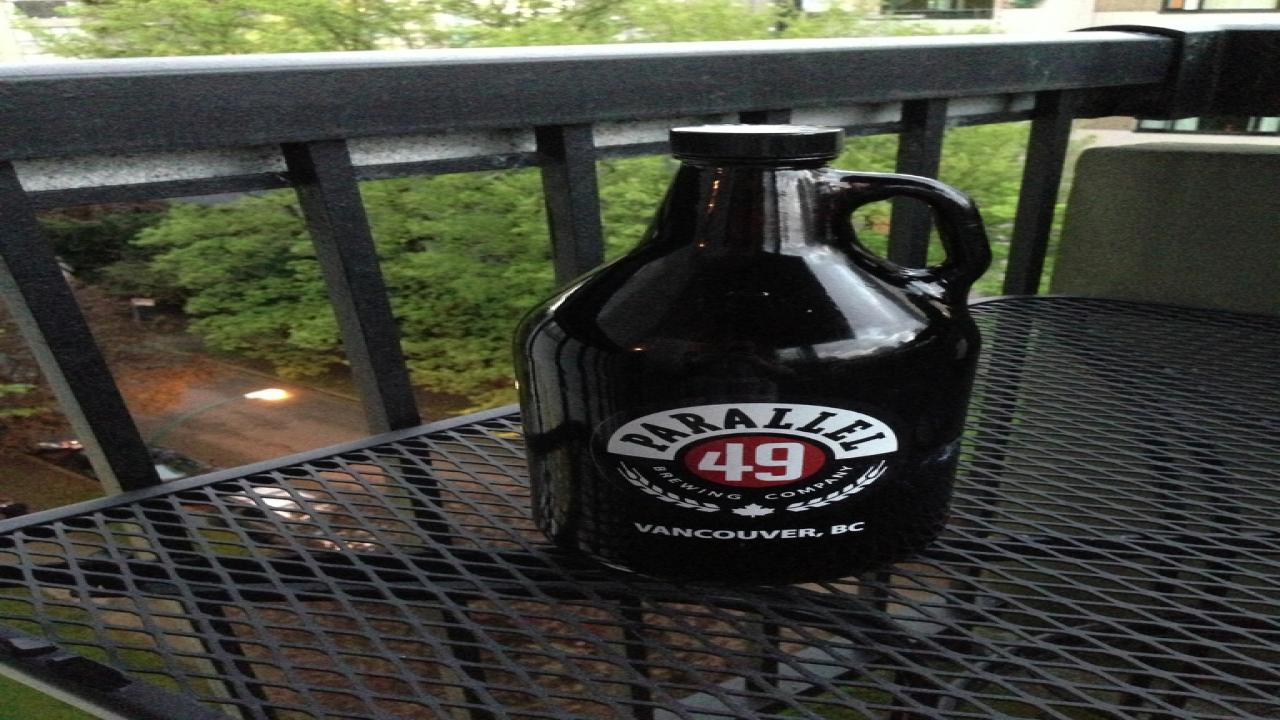bottle_cap: (664, 122, 848, 160)
